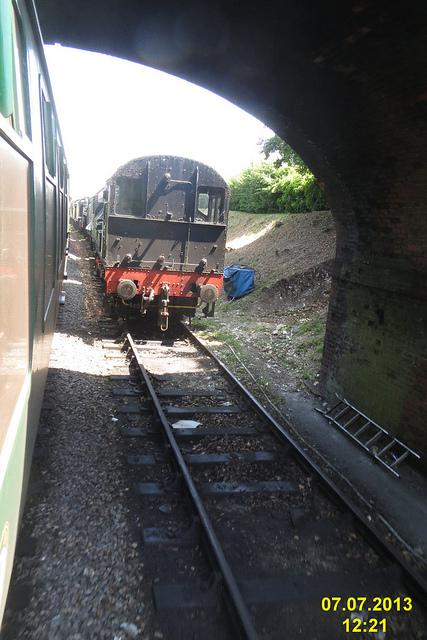Train: (2, 1, 76, 397), (70, 160, 237, 327)
